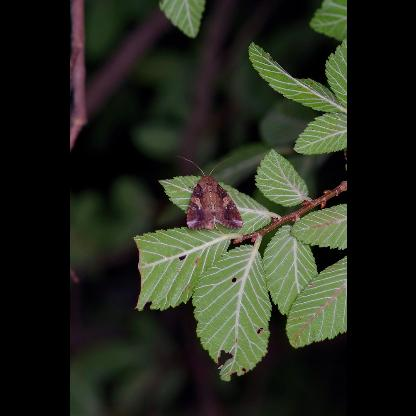Fall Armyworm Moth: (174, 154, 245, 233)
